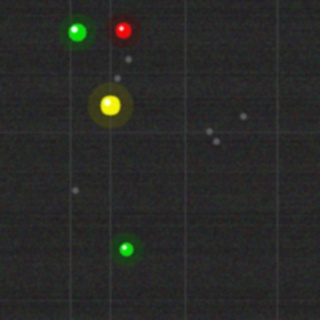green_normal: (66, 21, 88, 43), (117, 240, 135, 258)
red_fault: (113, 20, 133, 40)
yellow_warning: (98, 93, 122, 117)
